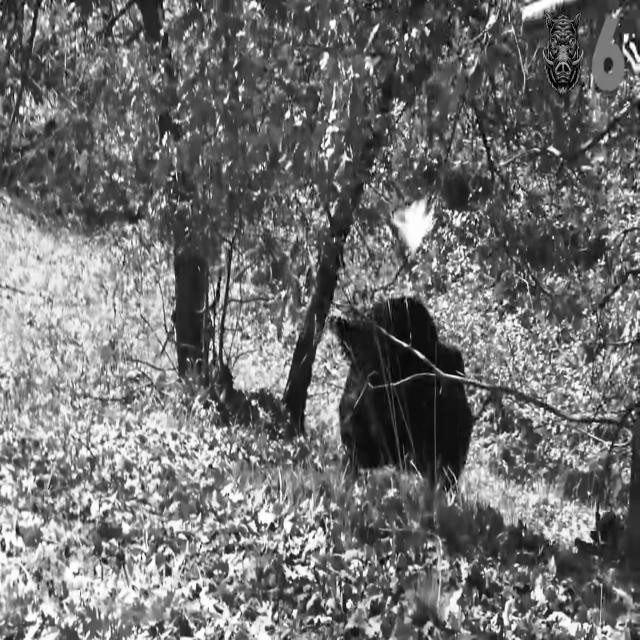boar: (335, 298, 469, 484)
